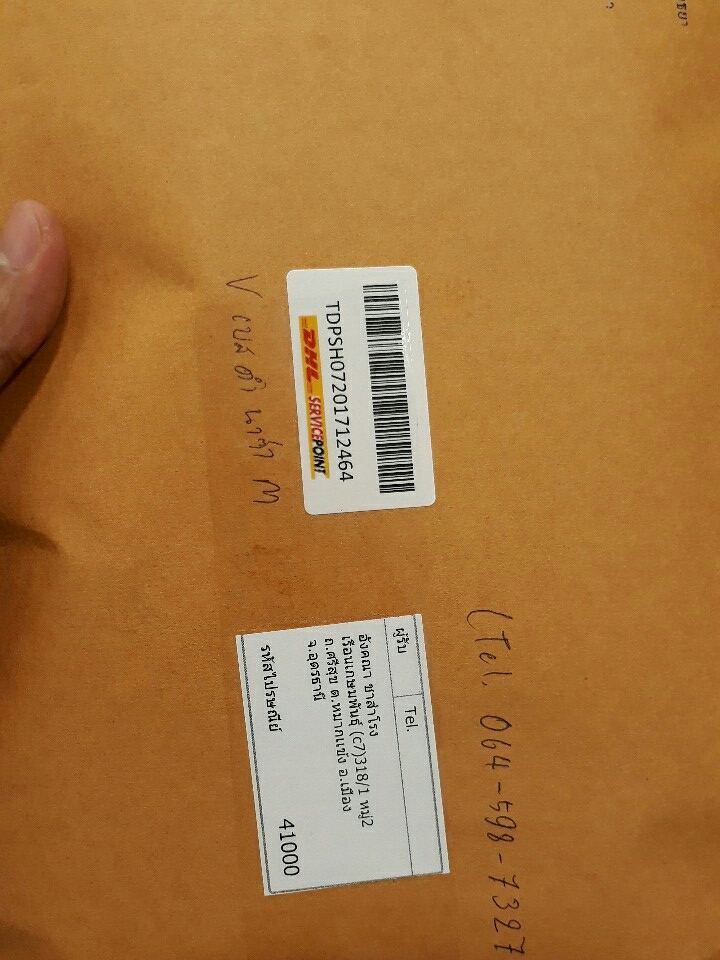ba: (281, 255, 444, 525)
txt: (256, 622, 426, 884)
